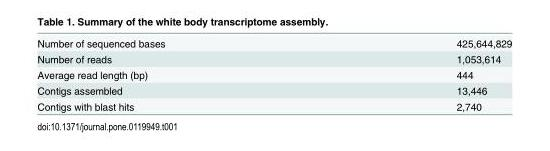table: (36, 37, 511, 111)
table column: (36, 37, 310, 111), (310, 37, 511, 111)
table row: (36, 50, 511, 66), (36, 66, 511, 82), (36, 82, 511, 98), (36, 37, 511, 50), (36, 98, 511, 111)
